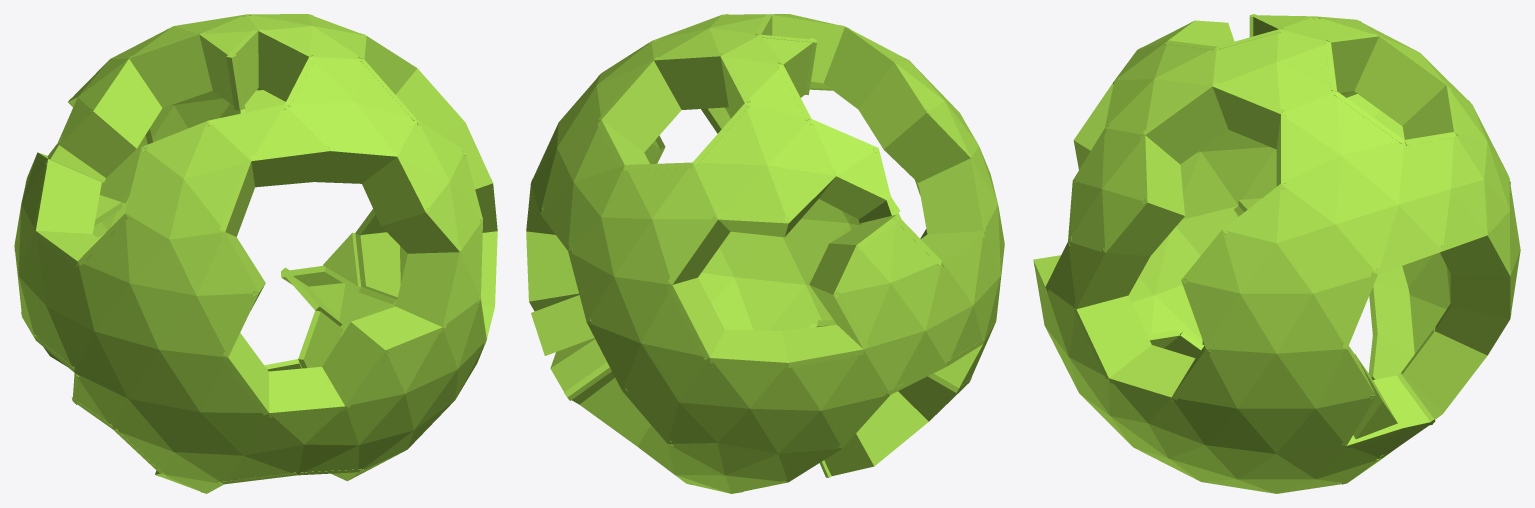
3 renders of one model, left to right at view 1: azimuth 30°, elevation 25°; view 2: azimuth 150°, elevation 25°; view 3: azimuth 270°, elevation 25°, orthographic.
Visible parts, largest first — view 1: ERDE, ERDE.014, ERDE.005, ERDE.067, ERDE.009, ERDE.064, ERDE.069, ERDE.068, ERDE.007, ERDE.011, ERDE.026, ERDE.075 (+21 smaller); view 2: ERDE, ERDE.087, ERDE.004, ERDE.090, ERDE.001, ERDE.008, ERDE.013, ERDE.036, ERDE.051, ERDE.017, ERDE.002, ERDE.020 (+20 smaller); view 3: ERDE, ERDE.088, ERDE.029, ERDE.081, ERDE.083, ERDE.074, ERDE.078, ERDE.057, ERDE.032, ERDE.076, ERDE.082, ERDE.035 (+12 smaller).
Part boxes in pixels (x1,y1,x2,y2): ERDE: (14, 14, 484, 493); ERDE.014: (129, 32, 212, 107); ERDE.005: (33, 159, 101, 233); ERDE.067: (395, 252, 463, 328); ERDE.009: (89, 59, 162, 148); ERDE.064: (269, 366, 345, 417); ERDE.069: (362, 155, 429, 226); ERDE.068: (322, 322, 389, 407); ERDE.007: (59, 108, 136, 177); ERDE.011: (258, 29, 312, 101); ERDE.026: (355, 232, 400, 299); ERDE.075: (396, 68, 465, 135); ERDE: (531, 14, 1004, 493); ERDE.087: (598, 60, 681, 152); ERDE.004: (918, 158, 985, 234); ERDE.090: (654, 53, 728, 109); ERDE.001: (884, 109, 970, 182); ERDE.008: (823, 27, 897, 109); ERDE.013: (858, 62, 930, 149); ERDE.036: (526, 231, 578, 301); ERDE.051: (856, 391, 928, 465); ERDE.017: (782, 325, 863, 367); ERDE.002: (531, 295, 594, 355); ERDE.020: (667, 277, 724, 359); ERDE: (1033, 16, 1520, 493); ERDE.088: (1354, 35, 1446, 125); ERDE.029: (1401, 329, 1487, 413); ERDE.081: (1074, 295, 1151, 378); ERDE.083: (1143, 83, 1228, 164); ERDE.074: (1212, 82, 1283, 149); ERDE.078: (1109, 345, 1195, 401); ERDE.057: (1369, 282, 1414, 357); ERDE.032: (1450, 272, 1511, 319); ERDE.076: (1074, 249, 1150, 308); ERDE.082: (1103, 198, 1184, 255); ERDE.035: (1435, 304, 1510, 355).
Size of the model in its own units: 2354 by 2351 by 2350.
